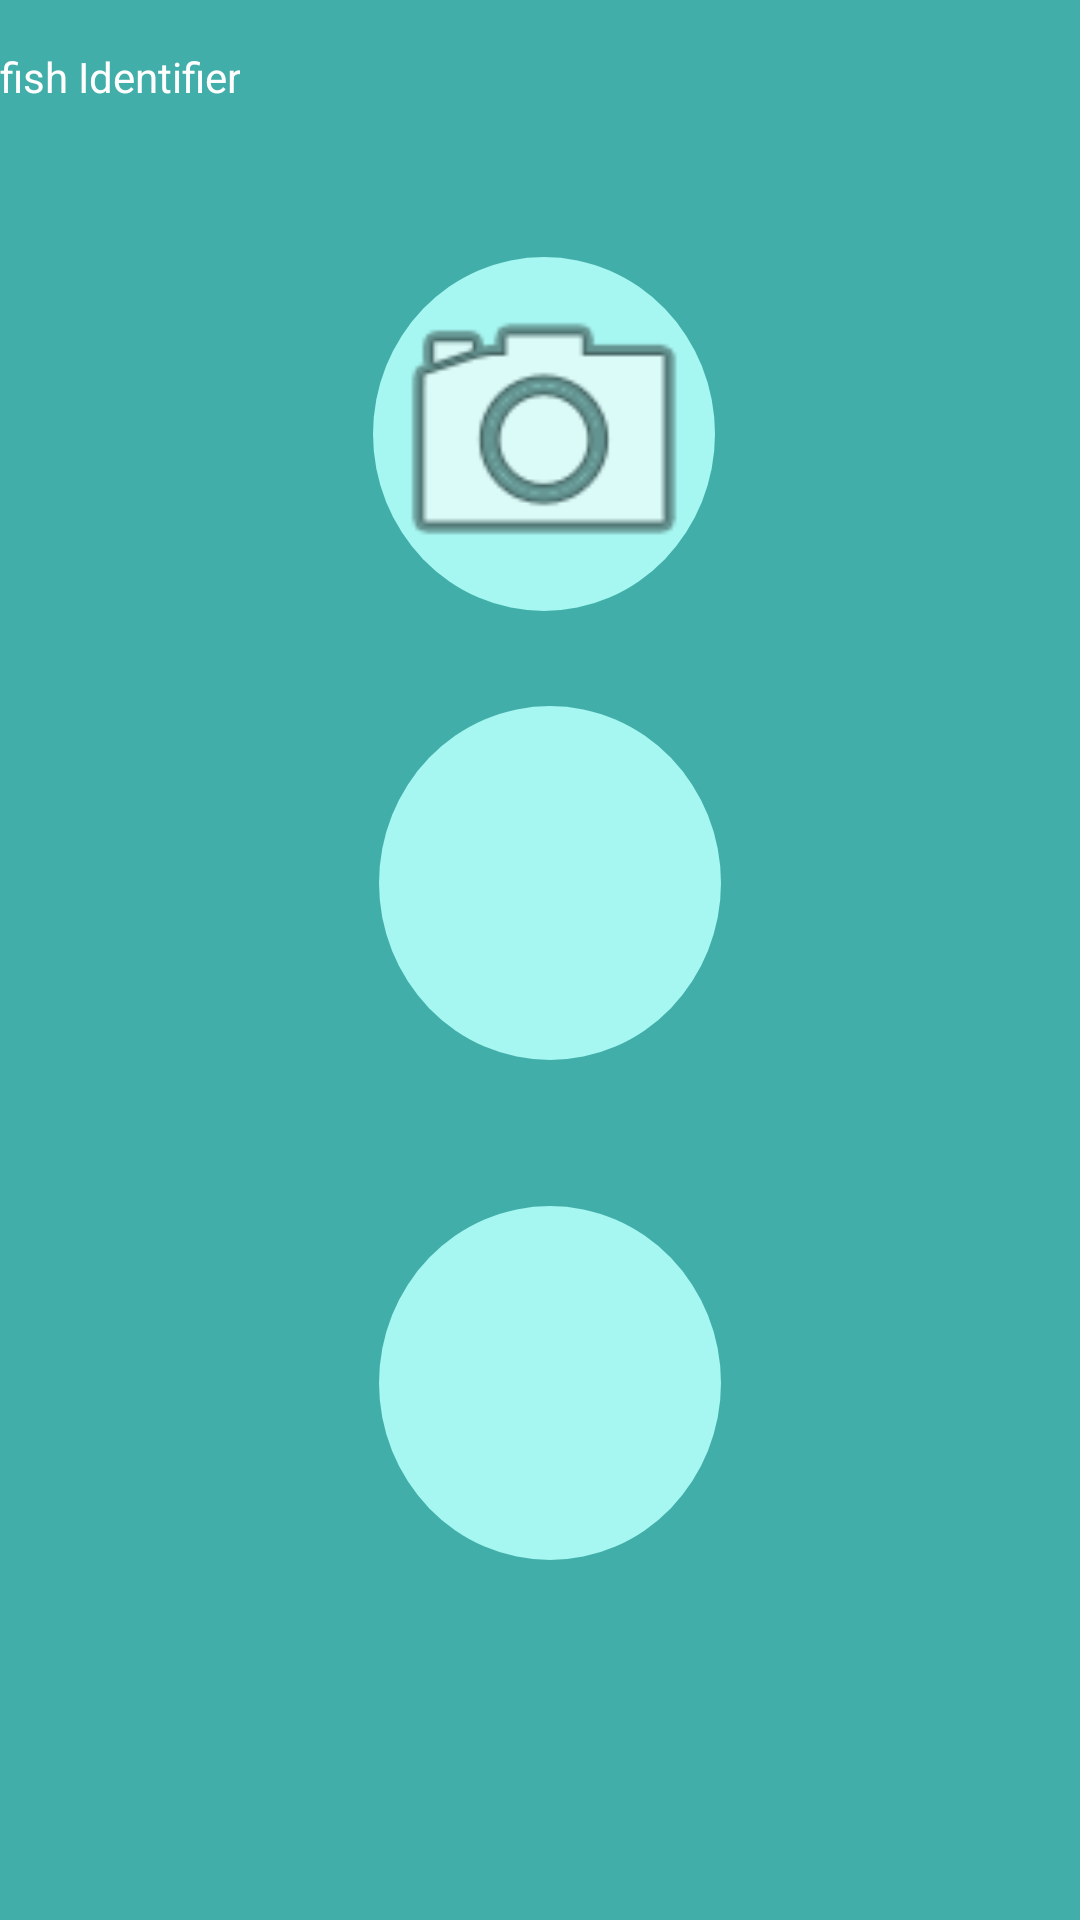

Named icons in this screenshot (1080px x 1920px) and their centers, (x,y):
camera: (544,434)
